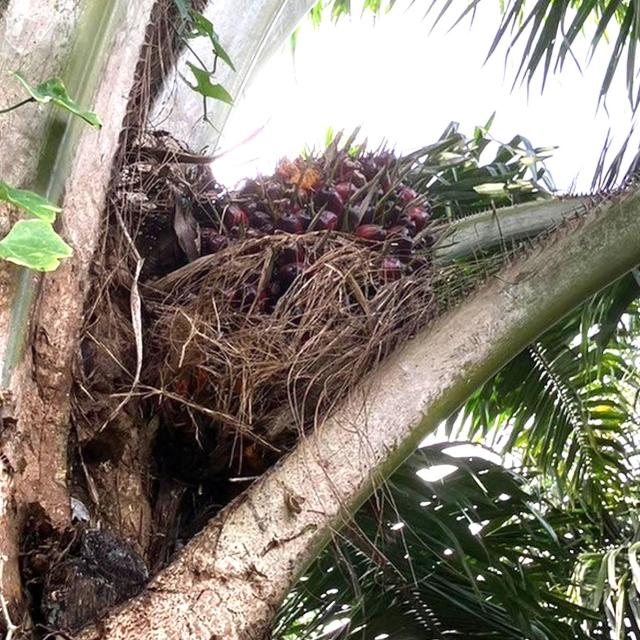ripe: (232, 136, 420, 290)
